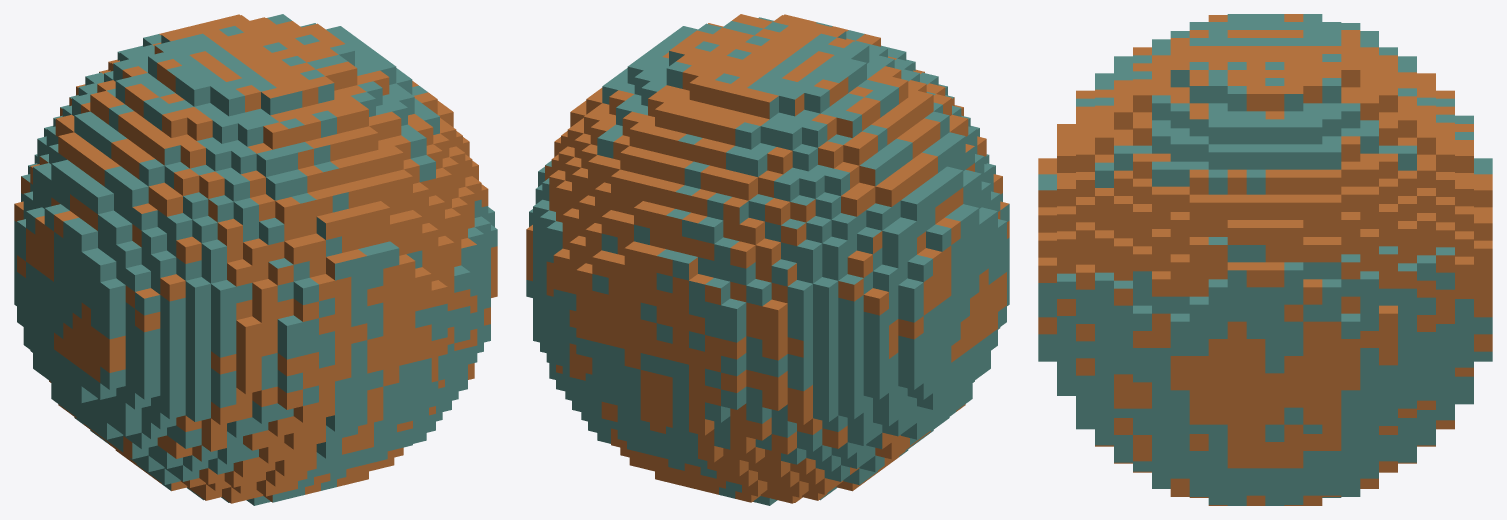
File: planet5.fbx
3 renders of one model, left to right at view 1: azimuth 30°, elevation 25°; view 2: azimuth 150°, elevation 25°; view 3: azimuth 270°, elevation 25°, orthographic. The views are drawn at different scales.
Parts seen in each view (by area): view 1: MASH1_ReproMesh; view 2: MASH1_ReproMesh; view 3: MASH1_ReproMesh.
Part boxes in pixels (x1,y1,x2,y2): MASH1_ReproMesh: [14, 14, 497, 505]; MASH1_ReproMesh: [526, 14, 1009, 505]; MASH1_ReproMesh: [1038, 14, 1492, 505].
Size of the model in its own units: 24 by 24 by 24.
